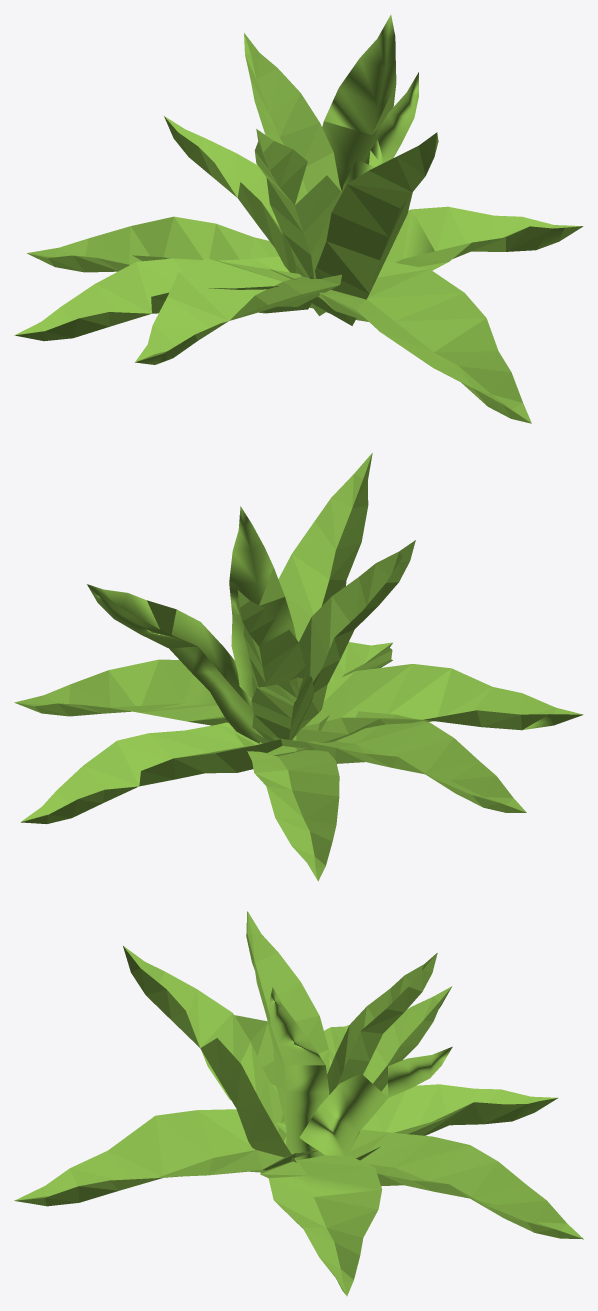
The model's file is plantsmall.glb.
3 renders of one model, top to bottom at view 1: azimuth 30°, elevation 25°; view 2: azimuth 150°, elevation 25°; view 3: azimuth 270°, elevation 25°, orthographic. The views are drawn at different scales.
Parts seen in each view (by area): view 1: group783281343, group1758196251, group266082552, group595482761, group158731365, group1439209696, group1990659664, group1238384977, group1318692651, group1894289659, group1945249999; view 2: group266082552, group303338039, group158731365, group1439209696, group1758196251, group1990659664, group595482761, group1238384977, group1945249999, group1318692651, group1894289659, group783281343; view 3: group783281343, group303338039, group1758196251, group1439209696, group595482761, group1990659664, group1945249999, group1238384977, group1318692651, group1894289659, group266082552.
Boxes of the visible parts, left/top/right/bottom form: group783281343: left=270, top=261, right=531, bottom=423; group1758196251: left=309, top=132, right=438, bottom=325; group266082552: left=135, top=258, right=341, bottom=364; group595482761: left=27, top=216, right=312, bottom=308; group158731365: left=14, top=256, right=311, bottom=341; group1439209696: left=385, top=206, right=583, bottom=270; group1990659664: left=322, top=15, right=396, bottom=191; group1238384977: left=254, top=129, right=341, bottom=315; group1318692651: left=244, top=33, right=341, bottom=204; group1894289659: left=164, top=116, right=295, bottom=273; group1945249999: left=342, top=72, right=418, bottom=192; group266082552: left=259, top=664, right=583, bottom=756; group303338039: left=20, top=722, right=286, bottom=824; group158731365: left=272, top=711, right=526, bottom=812; group1439209696: left=14, top=659, right=228, bottom=725; group1758196251: left=278, top=453, right=372, bottom=710; group1990659664: left=87, top=584, right=263, bottom=743; group595482761: left=235, top=733, right=339, bottom=881; group1238384977: left=294, top=540, right=415, bottom=736; group1945249999: left=229, top=506, right=296, bottom=698; group1318692651: left=235, top=590, right=305, bottom=694; group1894289659: left=251, top=675, right=313, bottom=741; group783281343: left=251, top=642, right=392, bottom=743; group783281343: left=14, top=1109, right=317, bottom=1206; group303338039: left=348, top=1129, right=583, bottom=1239; group1758196251: left=123, top=946, right=296, bottom=1162; group1439209696: left=260, top=1155, right=382, bottom=1296; group595482761: left=356, top=1084, right=558, bottom=1160; group1990659664: left=299, top=1046, right=452, bottom=1156; group1945249999: left=268, top=987, right=329, bottom=1160; group1238384977: left=246, top=911, right=329, bottom=1128; group1318692651: left=327, top=953, right=437, bottom=1094; group1894289659: left=363, top=986, right=452, bottom=1091; group266082552: left=201, top=1015, right=331, bottom=1133.
Size of the model in its own units: 1.7 by 0.7631 by 1.6.
